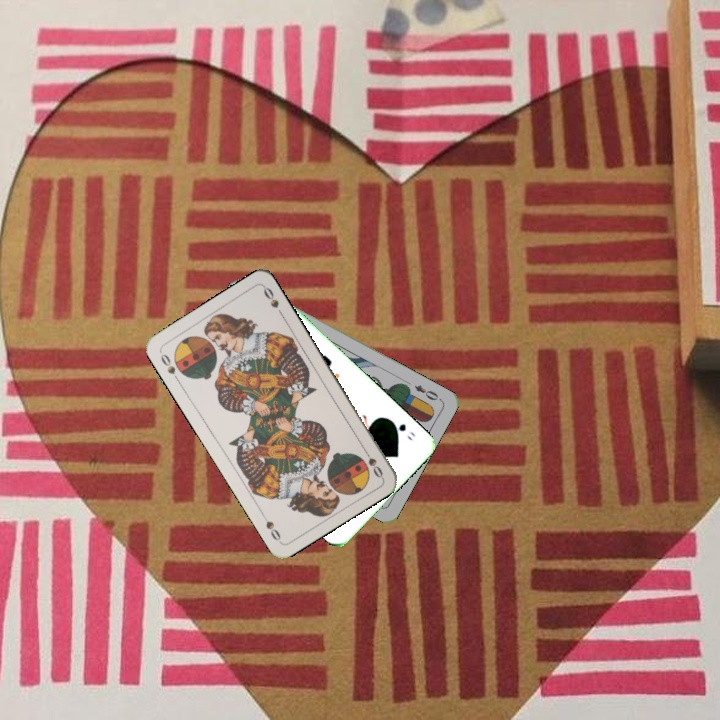EO: (410, 381, 444, 403)
GO: (386, 416, 418, 443)
SO: (359, 443, 386, 481), (156, 348, 182, 385)
